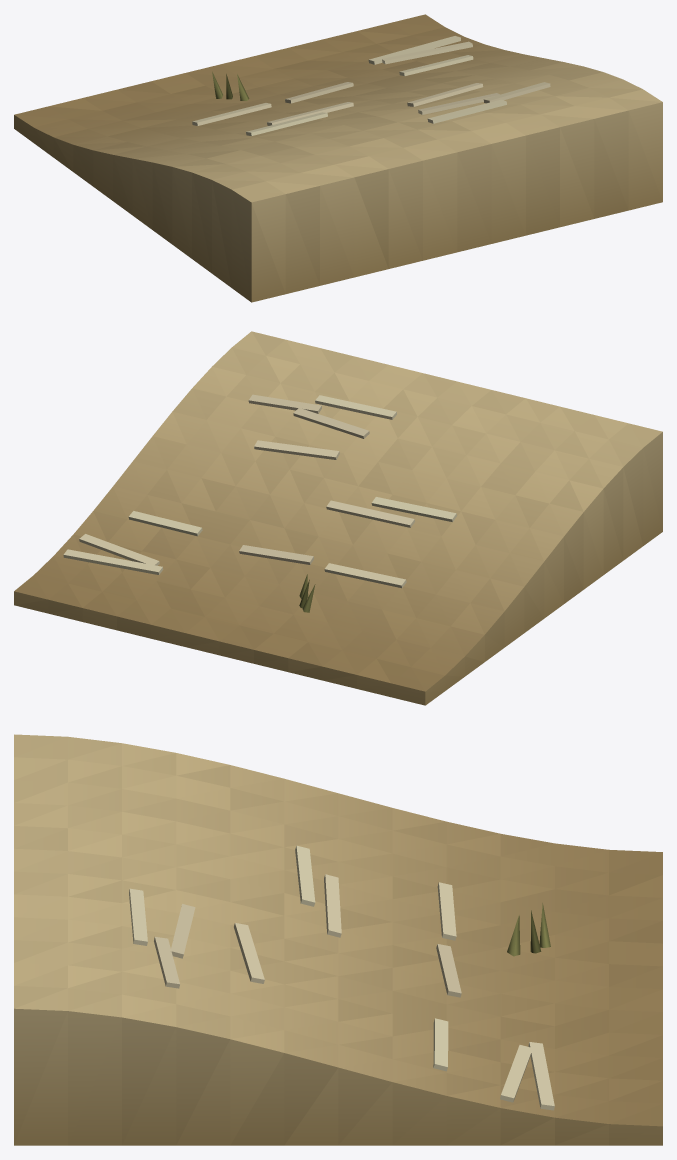
File: dune-slope-tile.glb
3 renders of one model, top to bottom at view 1: azimuth 30°, elevation 25°; view 2: azimuth 150°, elevation 25°; view 3: azimuth 270°, elevation 25°, orthographic. The views are drawn at different scales.
Parts seen in each view (by area): view 1: dune_slope_tile; view 2: dune_slope_tile; view 3: dune_slope_tile.
Part boxes in pixels (<box>): dune_slope_tile: <box>14,14,662,302</box>; dune_slope_tile: <box>14,331,662,705</box>; dune_slope_tile: <box>14,734,662,1145</box>.
Size of the model in its own units: 4 by 0.93 by 4.
